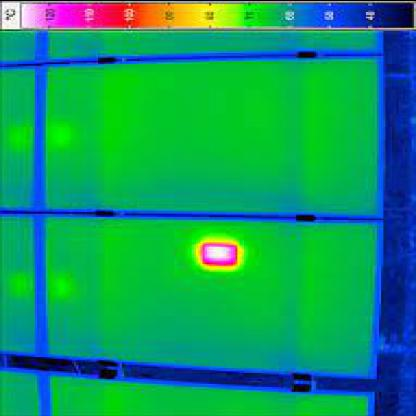Defects: (198, 241, 235, 263)
